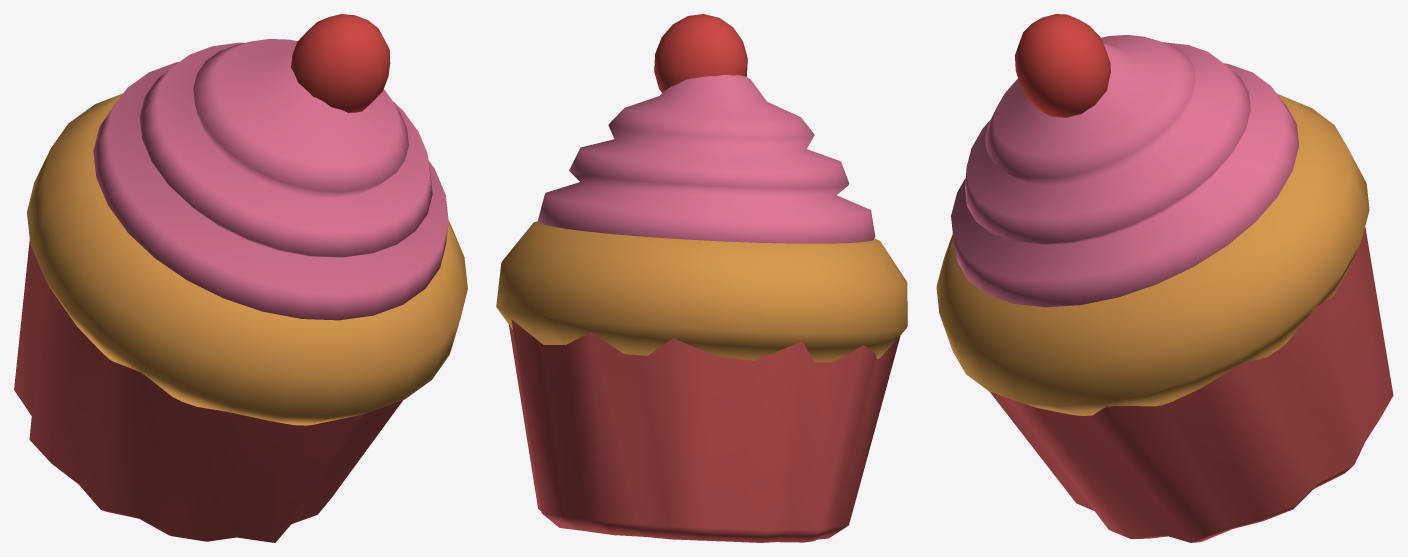
File: cupcake.glb
The picture shows the model from 3 angles, left to right: view 1: azimuth 30°, elevation 25°; view 2: azimuth 150°, elevation 25°; view 3: azimuth 270°, elevation 25°; orthographic projection. The views are drawn at different scales.
Visible parts, largest first — view 1: cupcake; view 2: cupcake; view 3: cupcake.
Boxes of the visible parts, left/top/right/bottom form: cupcake: left=14, top=14, right=467, bottom=542; cupcake: left=496, top=14, right=907, bottom=542; cupcake: left=936, top=14, right=1393, bottom=542.
Size of the model in its own units: 0.7289 by 0.9411 by 0.75.
